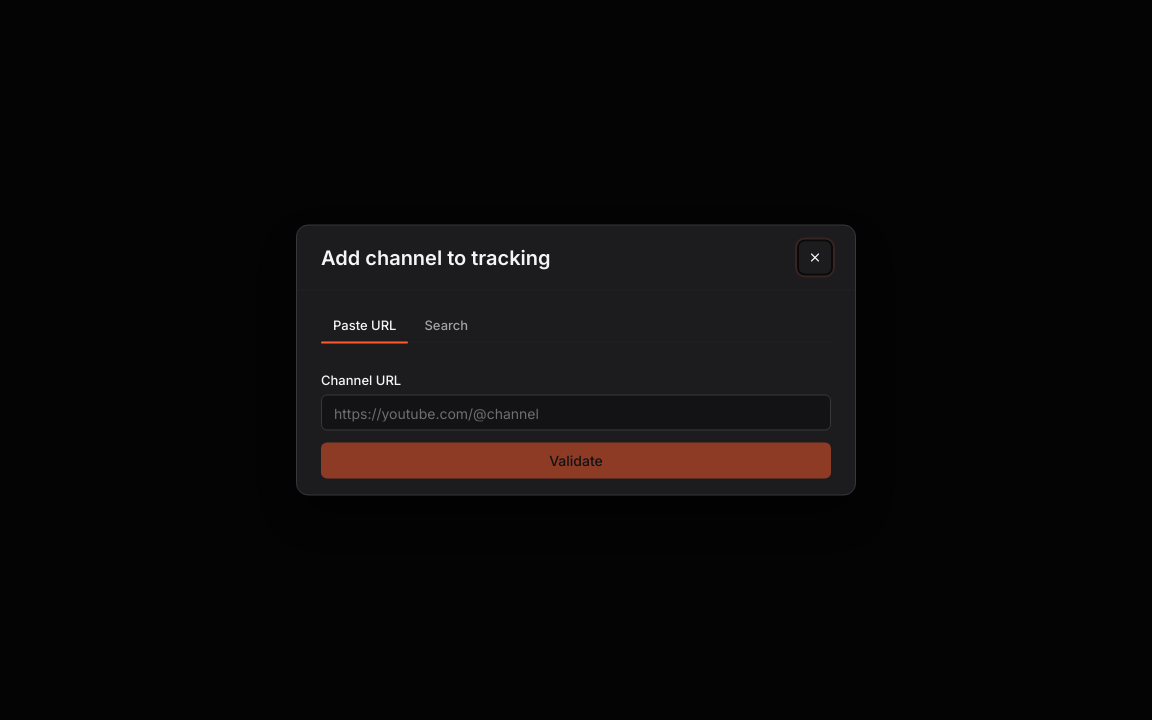
Test: AddChannelModal › validating -> invalid: shows an inline error and stays on the form
Step 1. Type "not a url" into the field labelled "Channel URL" → (576, 412), box [321,394,831,430]
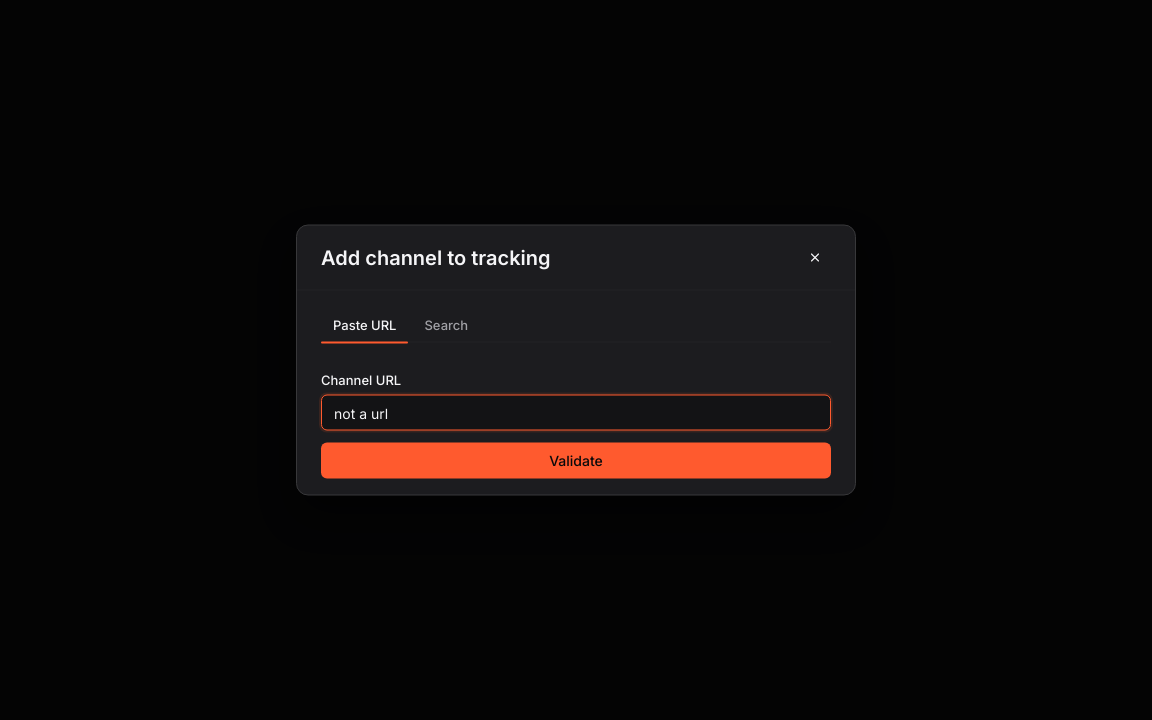
Step 2. Click the button "Validate" → (576, 460), box [321,442,831,478]
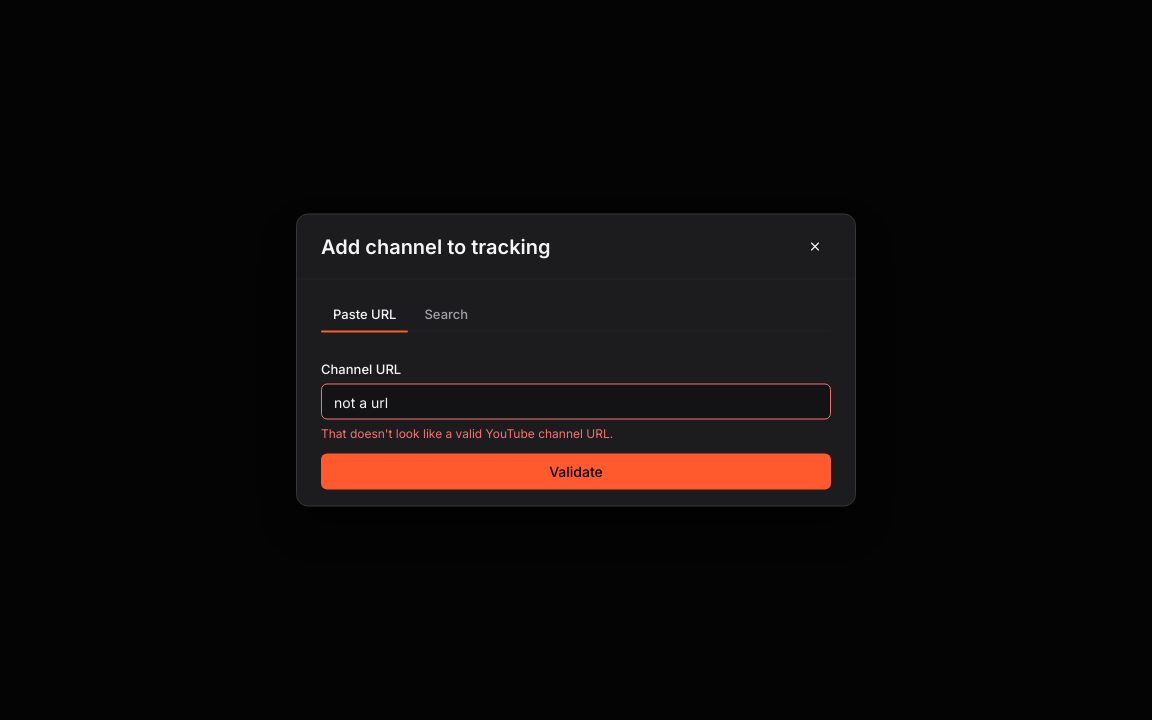
Expected: the text "That doesn't look like a valid YouTube channel URL." is shown, [321,426,613,442]
